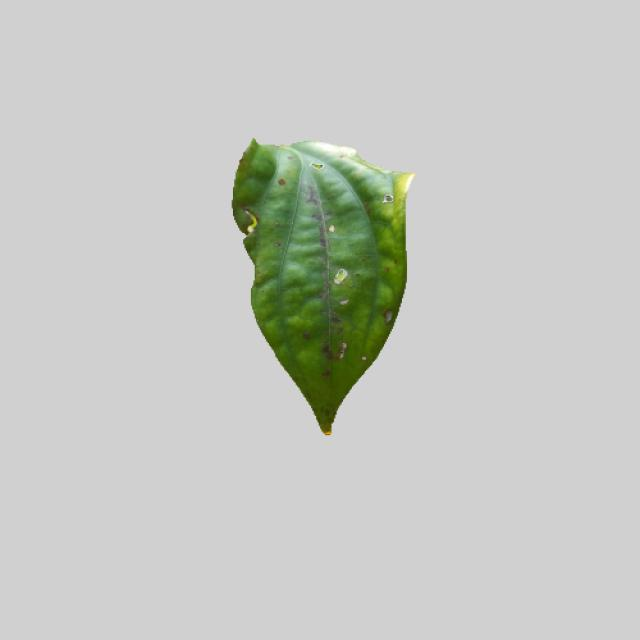yellow-mottle-virus: (219, 132, 417, 432)
